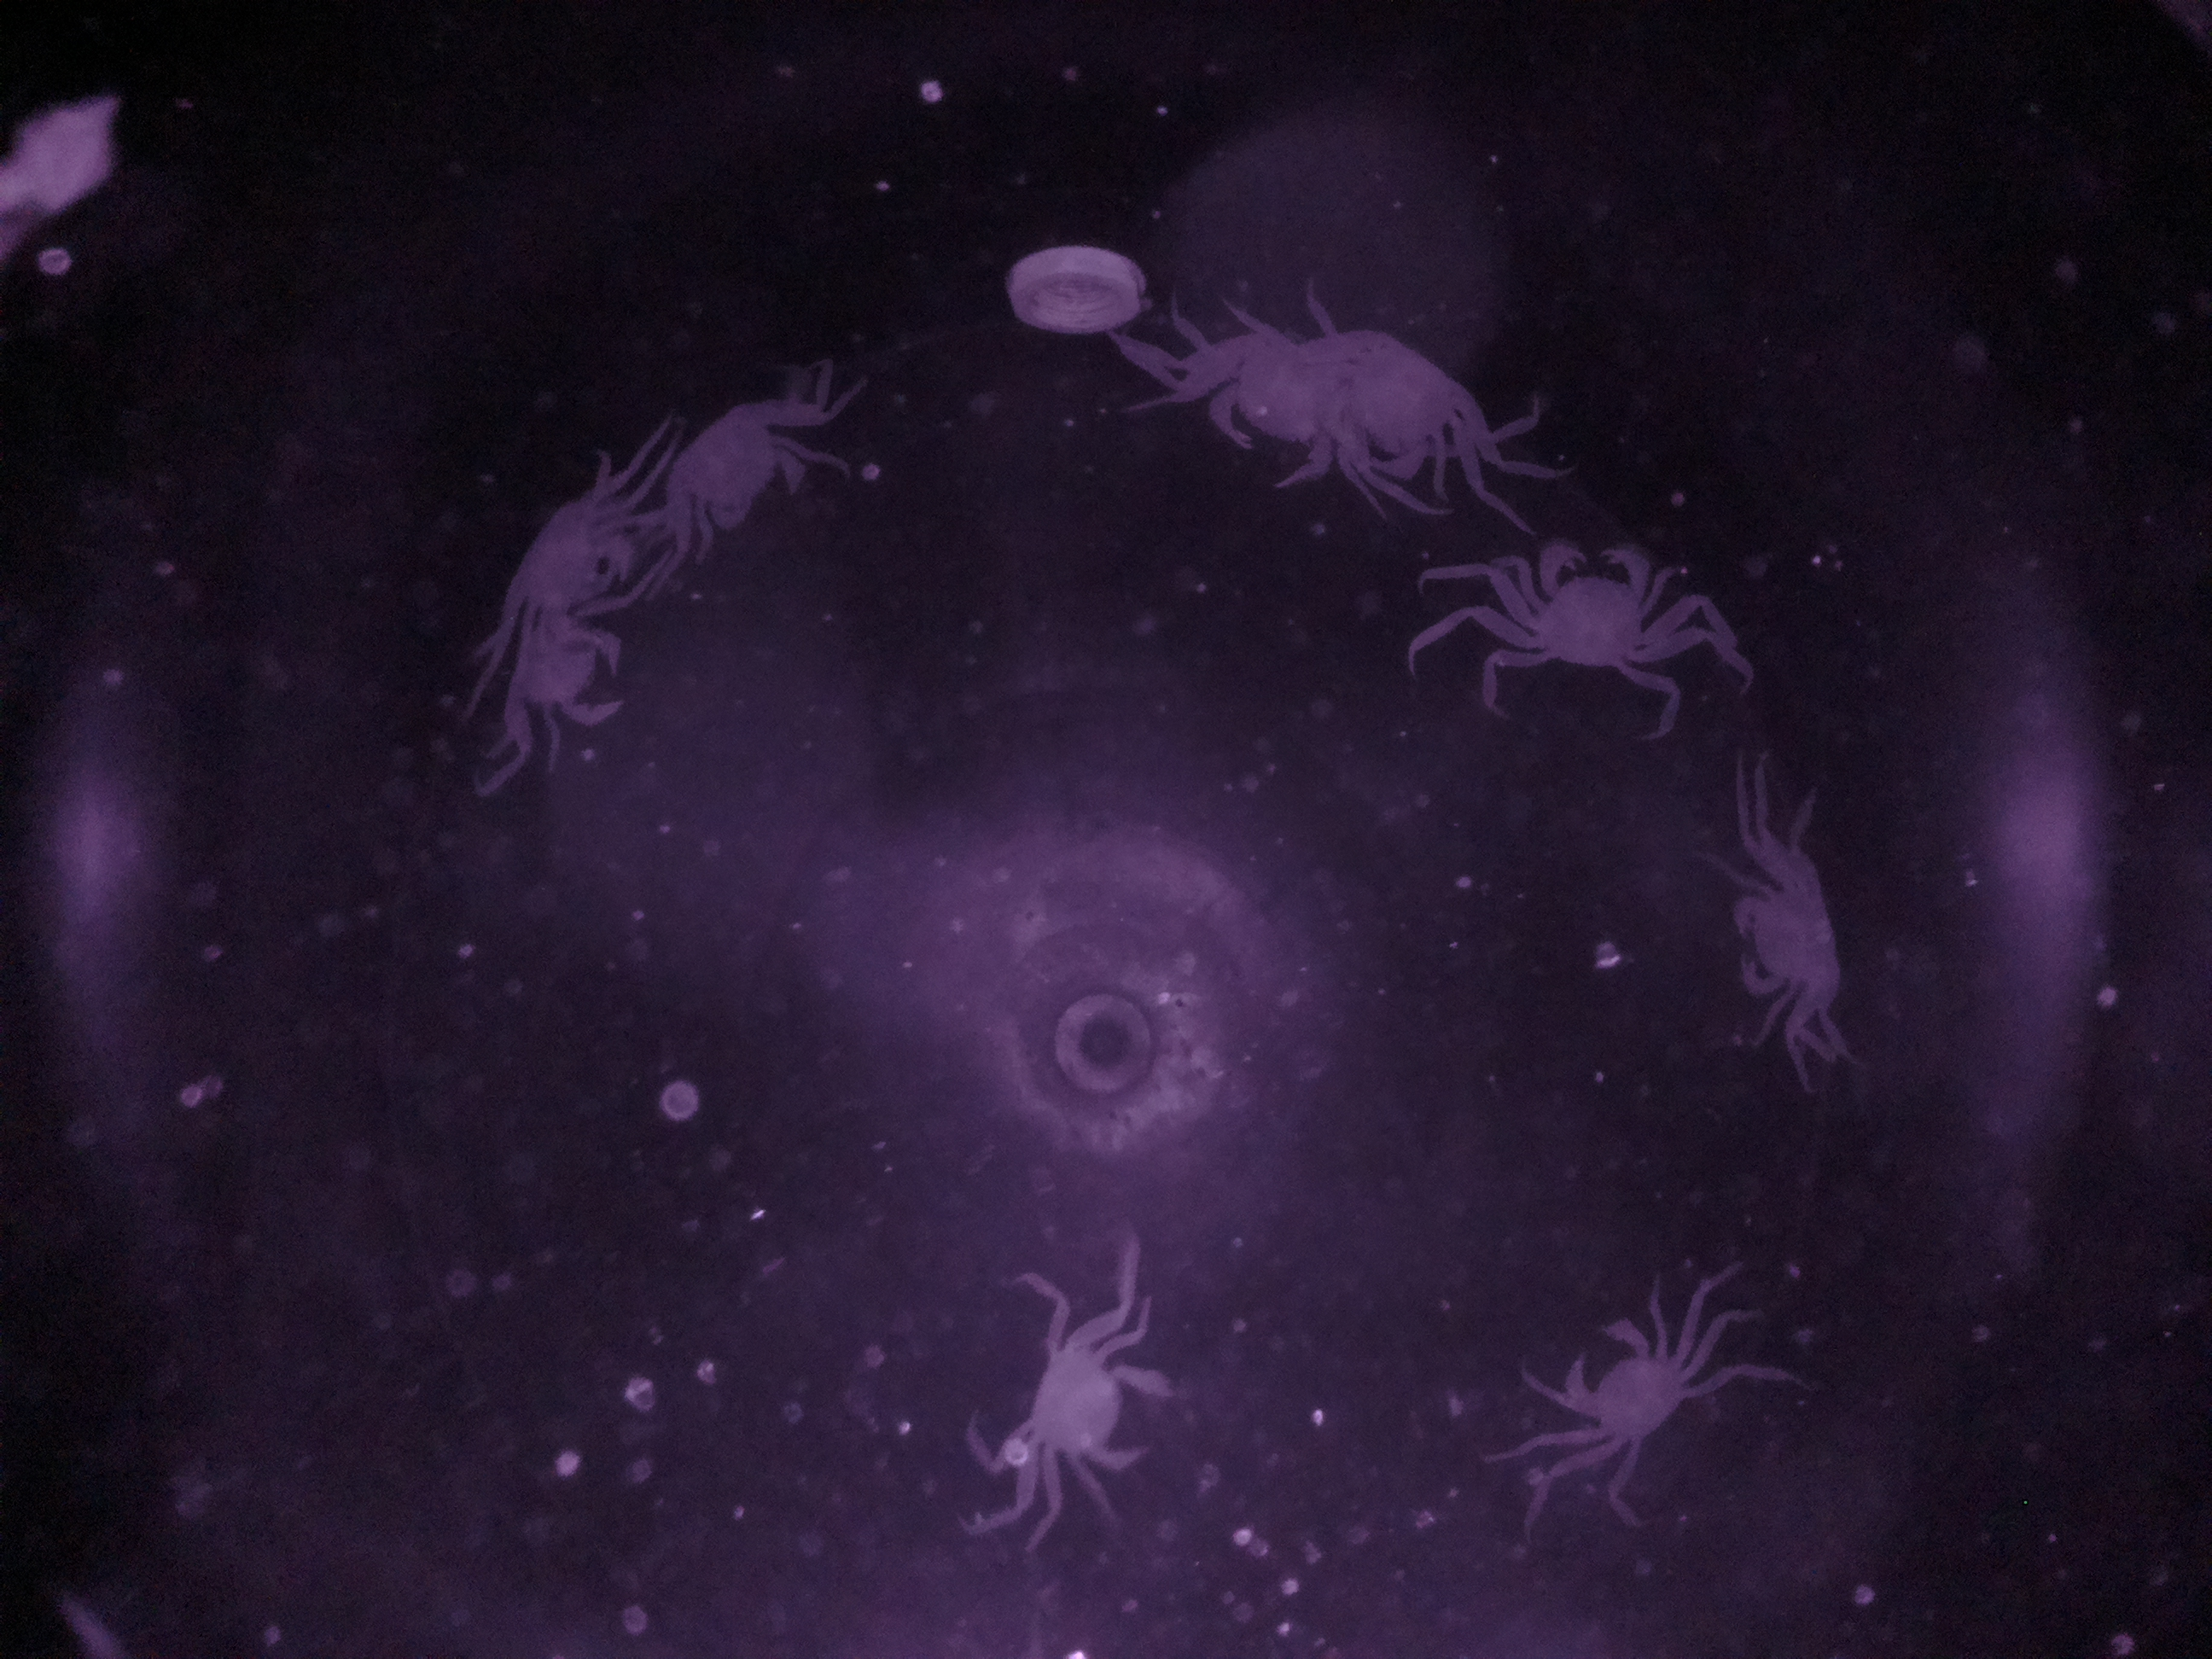Crab: (968, 1312, 1184, 1497), (1500, 511, 1700, 695), (1533, 1293, 1726, 1473), (1700, 838, 1867, 1044)
